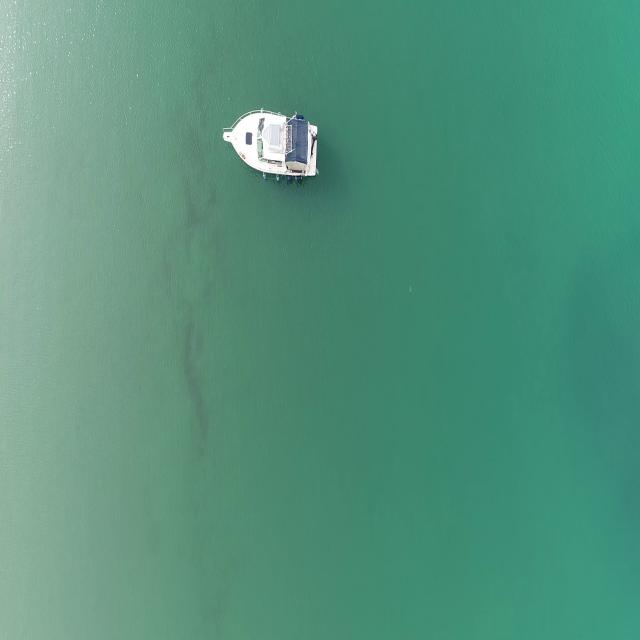boat: (222, 106, 320, 184)
